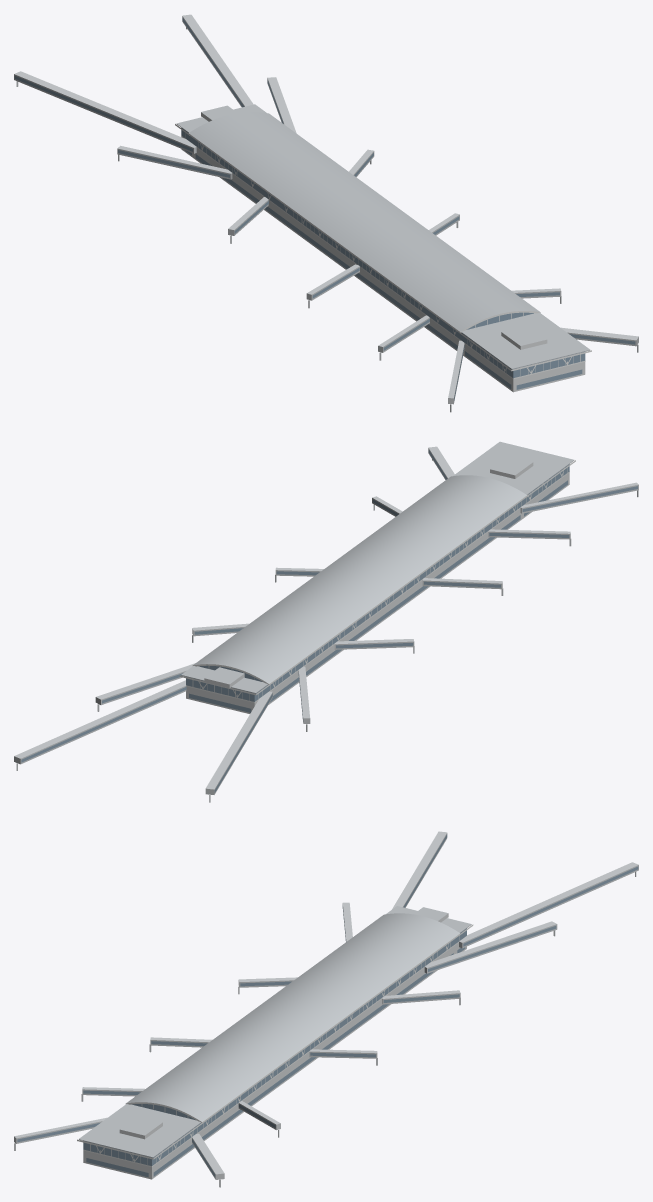
File: london-heathrow-terminal-5c.detail.glb
The picture shows the model from 3 angles, top to bottom: view 1: azimuth 30°, elevation 25°; view 2: azimuth 150°, elevation 25°; view 3: azimuth 330°, elevation 25°; orthographic projection. The views are drawn at different scales.
Parts seen in each view (by area): view 1: Heathrow Terminal 5C; view 2: Heathrow Terminal 5C; view 3: Heathrow Terminal 5C.
Part boxes in pixels (x1,y1,x2,y2): Heathrow Terminal 5C: [14, 14, 638, 412]; Heathrow Terminal 5C: [14, 441, 638, 802]; Heathrow Terminal 5C: [14, 831, 638, 1187].
Bounding box in the file's own units: 124 × 19.5 × 479.
